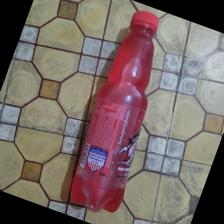Sting: (71, 11, 160, 212)
